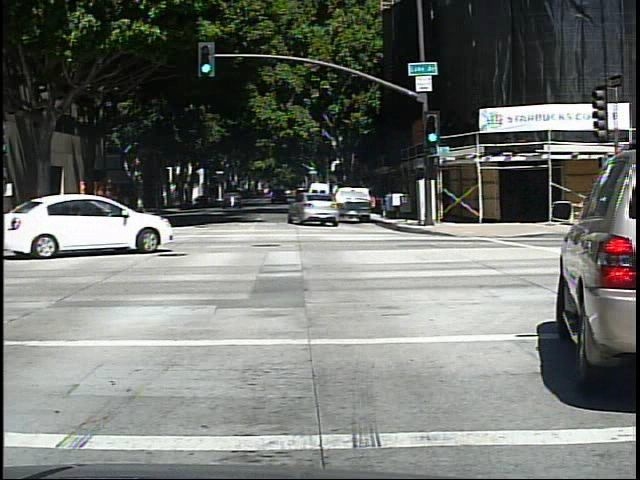person: (102, 187, 115, 218)
